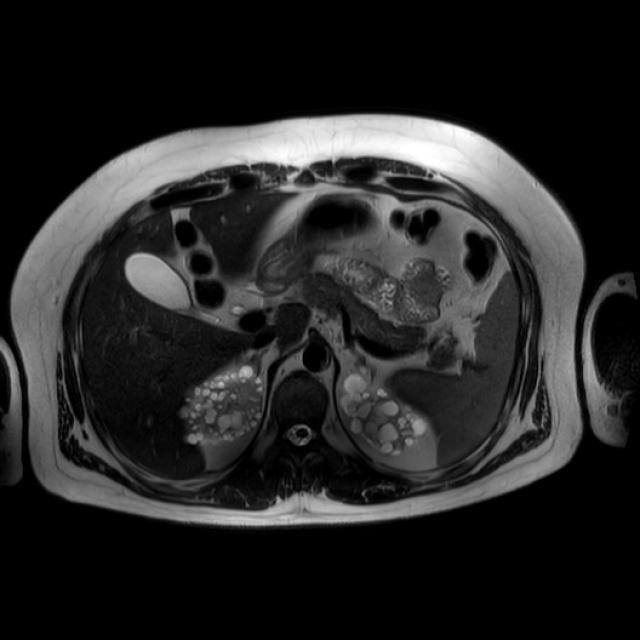sag: (182, 365, 265, 448)
sol: (342, 374, 430, 457)
